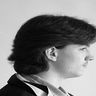ear: (39, 40, 63, 66)
